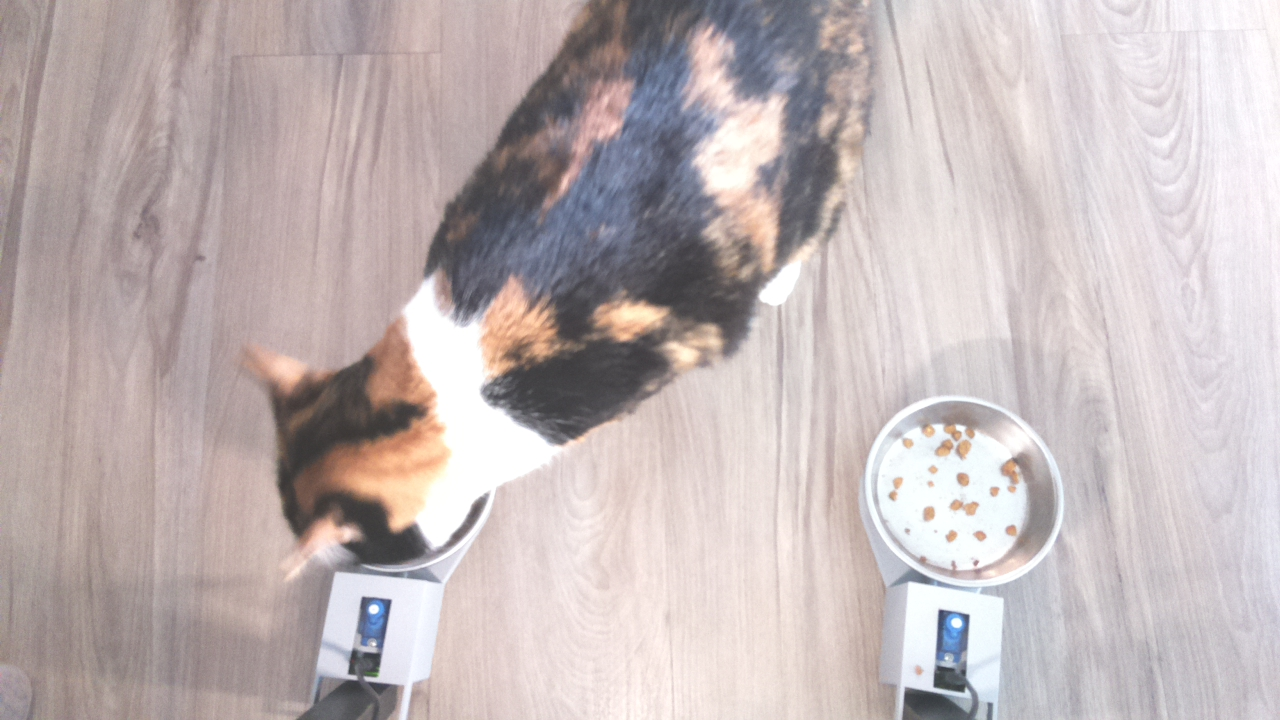bella_eating: (236, 294, 523, 576)
open_bowl: (863, 393, 1066, 592)
